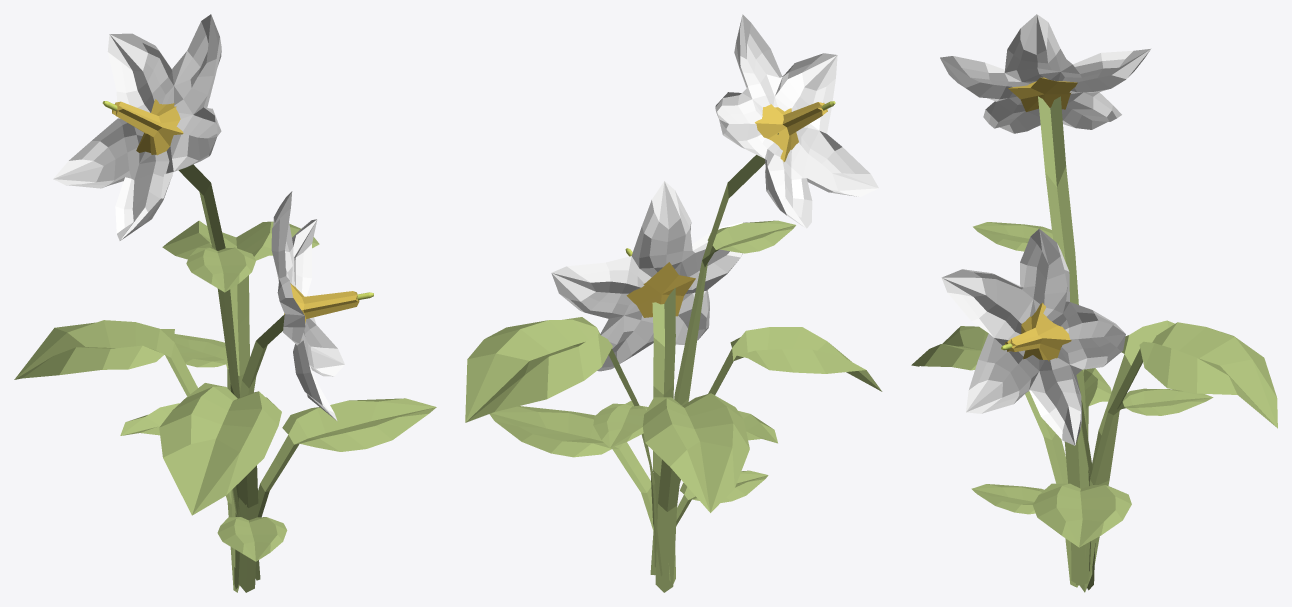
Rendered from bloom.gltf.
3 renders of one model, left to right at view 1: azimuth 30°, elevation 25°; view 2: azimuth 150°, elevation 25°; view 3: azimuth 270°, elevation 25°, orthographic. The views are drawn at different scales.
Visible parts, largest first — view 1: Leaf.001, Flower, Flower.001; view 2: Leaf.001, Flower, Flower.001; view 3: Leaf.001, Flower.001, Flower.
Part boxes in pixels (bbox=[...]): Leaf.001: bbox=[14, 164, 436, 592]; Flower: bbox=[53, 14, 221, 240]; Flower.001: bbox=[271, 191, 373, 421]; Leaf.001: bbox=[465, 133, 882, 592]; Flower: bbox=[715, 14, 878, 228]; Flower.001: bbox=[551, 181, 747, 371]; Leaf.001: bbox=[911, 96, 1277, 592]; Flower.001: bbox=[941, 228, 1125, 445]; Flower: bbox=[940, 14, 1150, 133].
Size of the model in its own units: 5.06 by 8.06 by 4.86.
